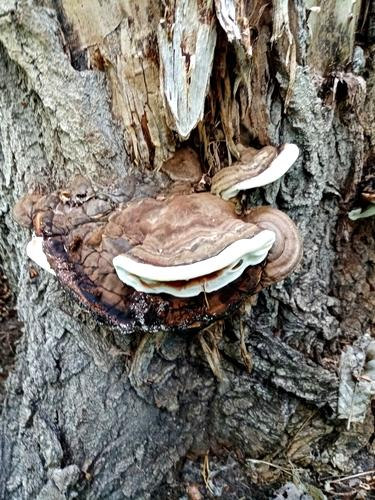Ganoderma - Fruit Body: (21, 191, 303, 335), (210, 142, 300, 189)
